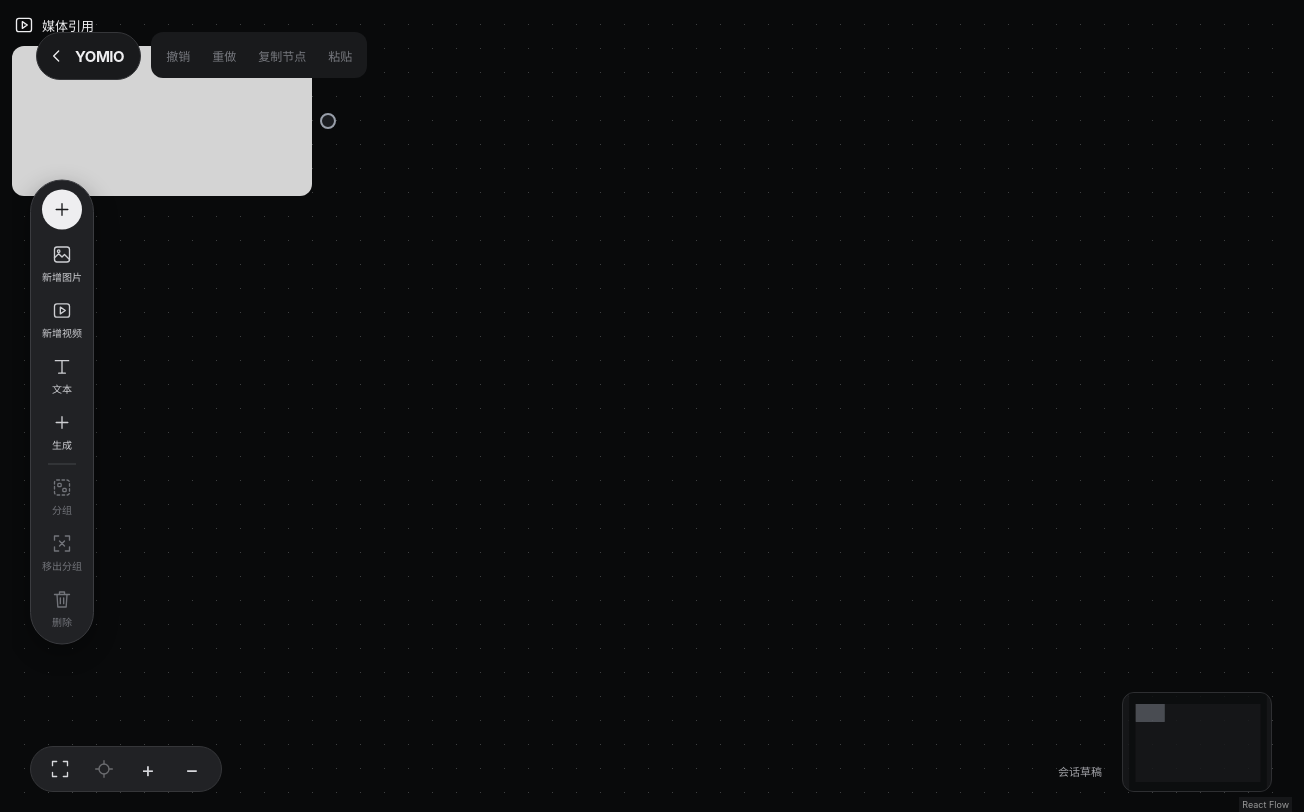
Test case: hides the video action when depth is disabled and does not substitute it for ordinary models
Click the button "新增视频": {"x": 62, "y": 320} [37,294,87,346]
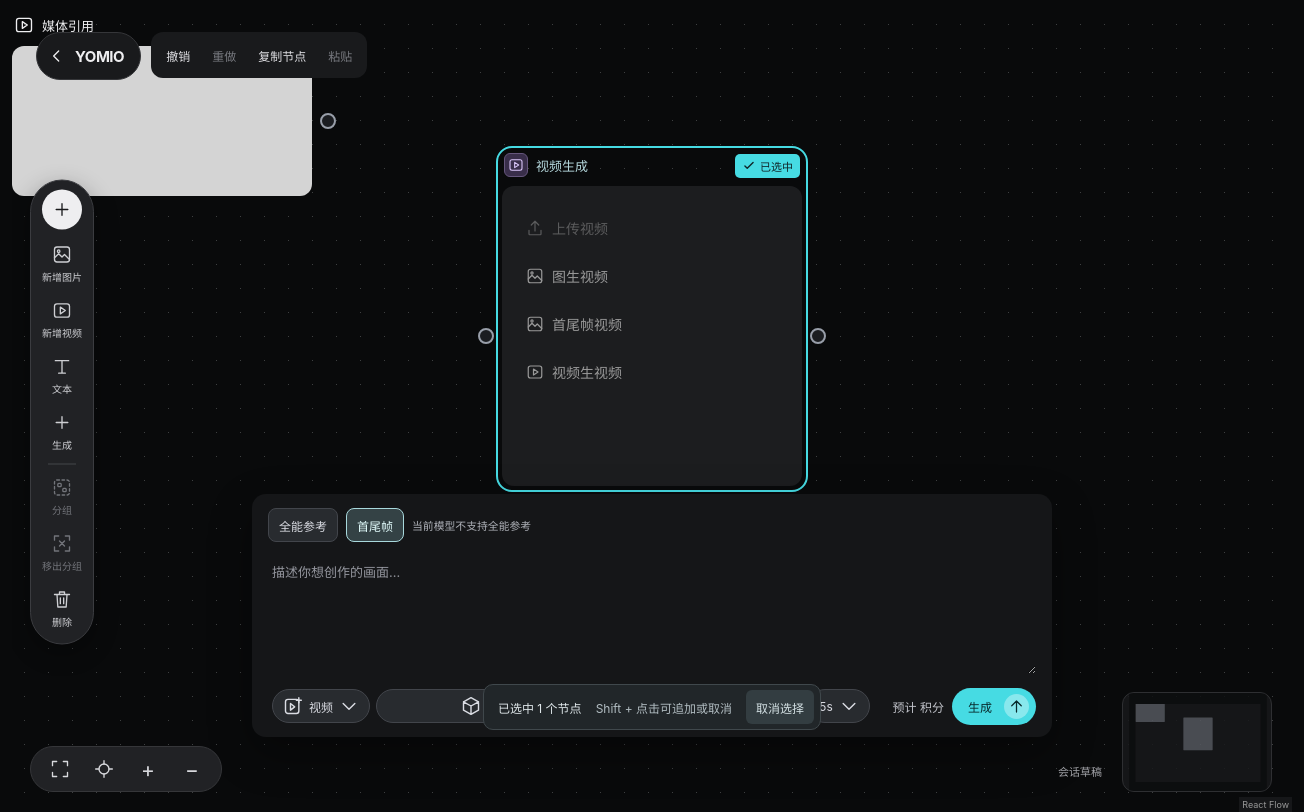
Result: the button with aria-label "模型" reads "普通视频" at [376,689,646,723]
Result: the text box named "生成提示词" is shown at [268,554,1036,674]
